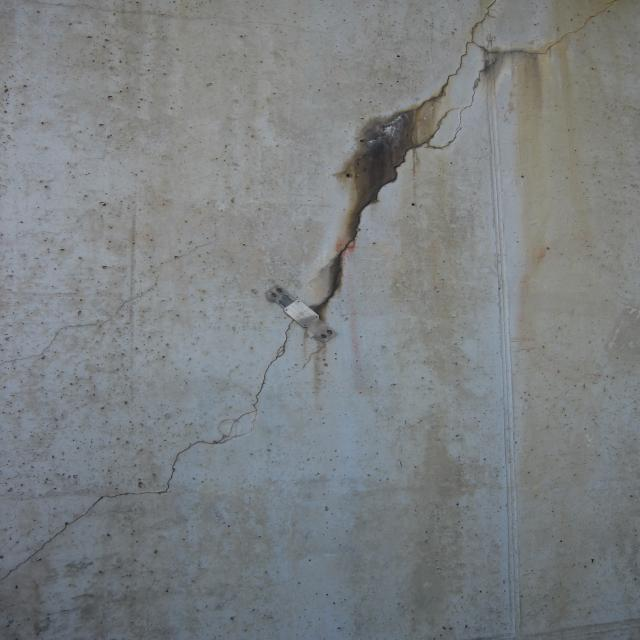corrosion: (270, 34, 616, 410)
